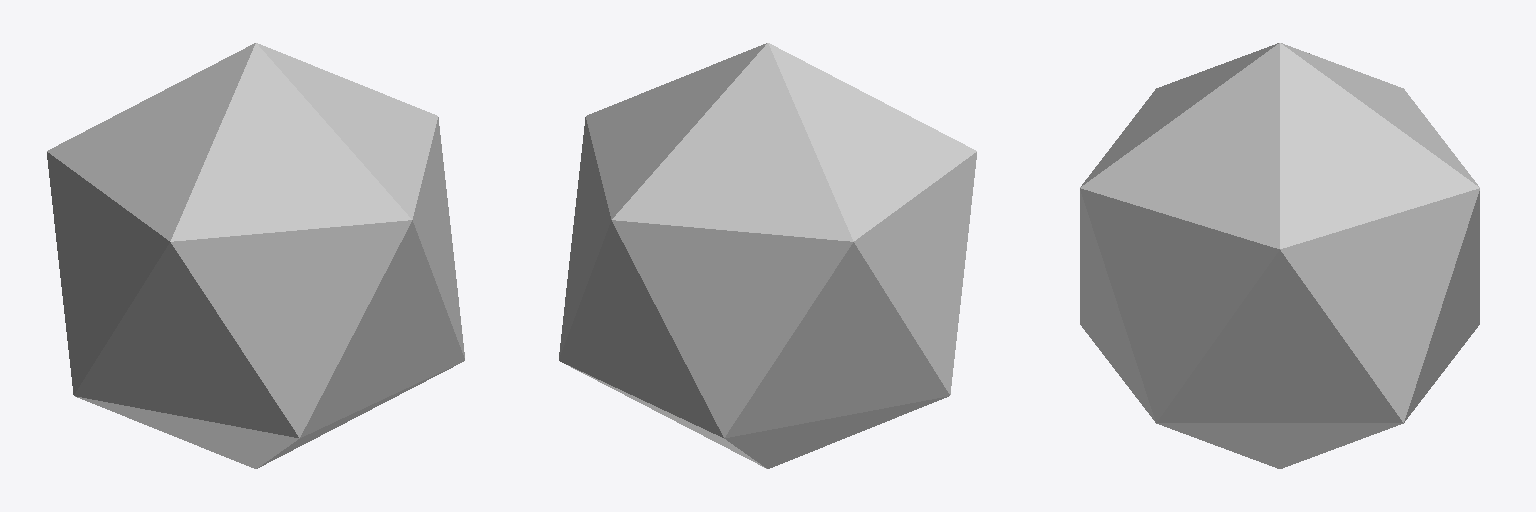
Rendered from shape_shell.obj.
3 views of the same model, side by side, from view 1: azimuth 30°, elevation 25°; view 2: azimuth 150°, elevation 25°; view 3: azimuth 270°, elevation 25° (orthographic).
Visible parts, largest first — view 1: Icosphere.004_Icosphere.007, Icosphere.001_Icosphere.005, Icosphere.005_Icosphere.008, Icosphere.036_Icosphere.060, Icosphere.035_Icosphere.059, Icosphere.011_Icosphere.037, Icosphere.015_Icosphere.040, Icosphere.013_Icosphere.038, Icosphere.006_Icosphere.009, Icosphere.010_Icosphere.036; view 2: Icosphere.020_Icosphere.044, Icosphere.017_Icosphere.042, Icosphere.034_Icosphere.058, Icosphere.036_Icosphere.060, Icosphere.035_Icosphere.059, Icosphere.022_Icosphere.046, Icosphere.032_Icosphere.056, Icosphere.029_Icosphere.053, Icosphere.033_Icosphere.057, Icosphere.023_Icosphere.047; view 3: Icosphere.028_Icosphere.052, Icosphere.029_Icosphere.053, Icosphere.013_Icosphere.038, Icosphere.015_Icosphere.040, Icosphere.032_Icosphere.056, Icosphere.027_Icosphere.051, Icosphere.011_Icosphere.037, Icosphere.022_Icosphere.046, Icosphere.001_Icosphere.005, Icosphere.017_Icosphere.042.
Part boxes in pixels (bbox=[...]): Icosphere.004_Icosphere.007: bbox=[171, 220, 411, 437]; Icosphere.001_Icosphere.005: bbox=[170, 43, 411, 241]; Icosphere.005_Icosphere.008: bbox=[74, 242, 298, 437]; Icosphere.036_Icosphere.060: bbox=[47, 43, 255, 240]; Icosphere.035_Icosphere.059: bbox=[47, 152, 169, 394]; Icosphere.011_Icosphere.037: bbox=[300, 220, 464, 437]; Icosphere.015_Icosphere.040: bbox=[257, 43, 437, 219]; Icosphere.013_Icosphere.038: bbox=[413, 117, 464, 357]; Icosphere.006_Icosphere.009: bbox=[75, 396, 299, 468]; Icosphere.010_Icosphere.036: bbox=[257, 365, 455, 468]; Icosphere.020_Icosphere.044: bbox=[612, 220, 852, 437]; Icosphere.017_Icosphere.042: bbox=[612, 43, 853, 241]; Icosphere.034_Icosphere.058: bbox=[725, 242, 949, 437]; Icosphere.036_Icosphere.060: bbox=[768, 43, 976, 240]; Icosphere.035_Icosphere.059: bbox=[854, 152, 976, 394]; Icosphere.022_Icosphere.046: bbox=[559, 220, 723, 437]; Icosphere.032_Icosphere.056: bbox=[586, 43, 766, 219]; Icosphere.029_Icosphere.053: bbox=[559, 117, 610, 357]; Icosphere.033_Icosphere.057: bbox=[724, 396, 948, 468]; Icosphere.023_Icosphere.047: bbox=[568, 365, 766, 468]; Icosphere.028_Icosphere.052: bbox=[1157, 250, 1402, 422]; Icosphere.029_Icosphere.053: bbox=[1280, 188, 1479, 422]; Icosphere.013_Icosphere.038: bbox=[1080, 188, 1279, 422]; Icosphere.015_Icosphere.040: bbox=[1080, 43, 1279, 248]; Icosphere.032_Icosphere.056: bbox=[1280, 43, 1479, 248]; Icosphere.027_Icosphere.051: bbox=[1156, 423, 1403, 468]; Icosphere.011_Icosphere.037: bbox=[1080, 191, 1155, 422]; Icosphere.022_Icosphere.046: bbox=[1404, 191, 1479, 422]; Icosphere.001_Icosphere.005: bbox=[1081, 43, 1278, 186]; Icosphere.017_Icosphere.042: bbox=[1281, 43, 1478, 186].
Bounding box in the file's own units: 8.3 × 9.28 × 7.89.